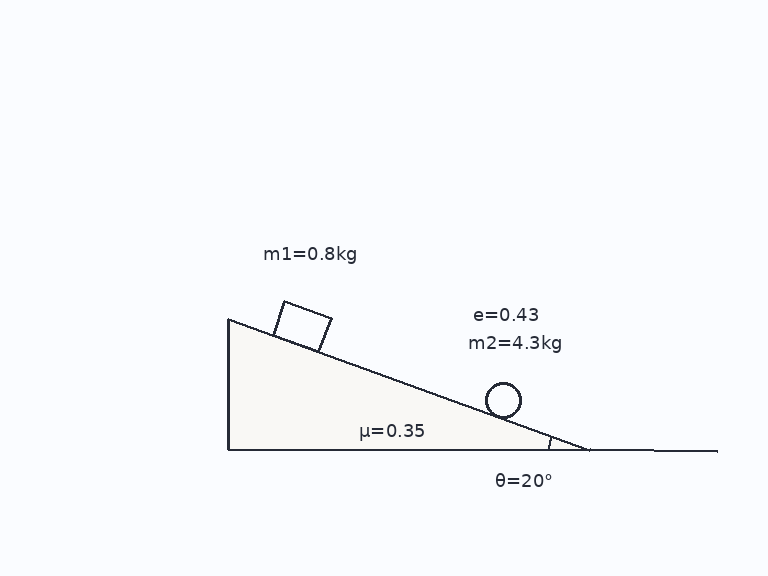ball: (483, 380, 523, 420)
block: (270, 299, 332, 353)
ramp: (226, 317, 591, 452)
